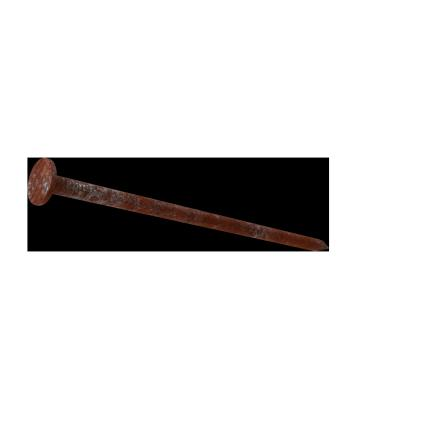karat: (28, 158, 328, 250)
